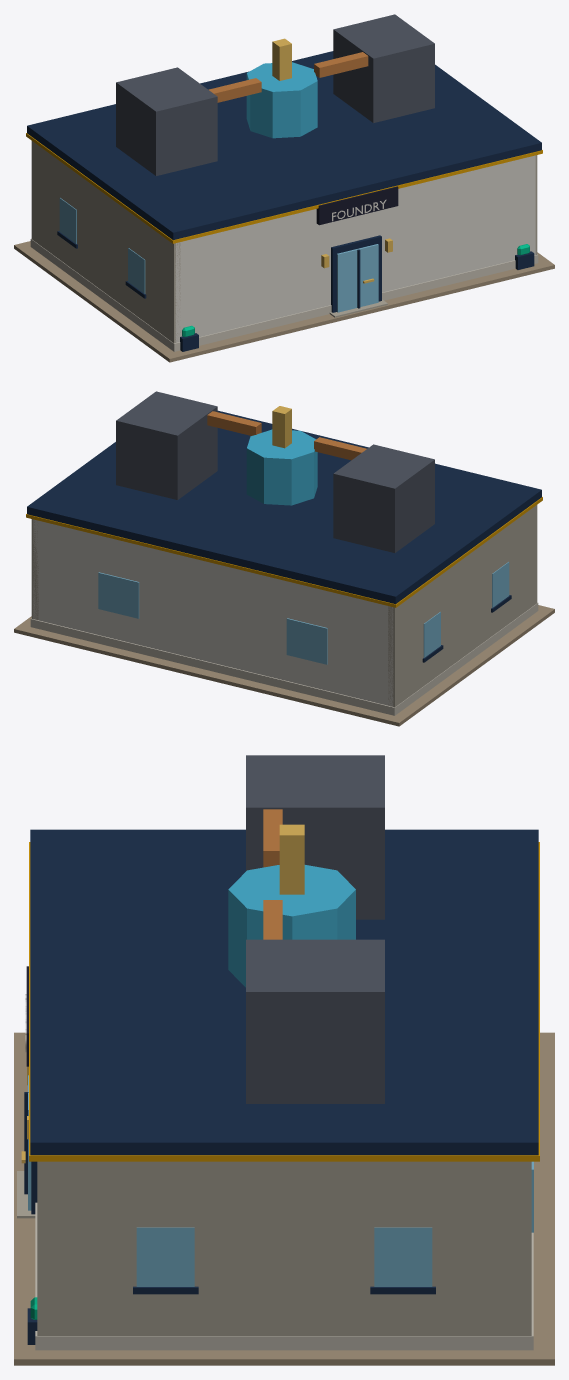
Rendered from agent-foundry-Px7C4eWr.glb.
3 renders of one model, top to bottom at view 1: azimuth 30°, elevation 25°; view 2: azimuth 150°, elevation 25°; view 3: azimuth 270°, elevation 25°, orthographic. The views are drawn at different scales.
Visible parts, largest first — view 1: Architecture, core_orb, core_beacon; view 2: Architecture, core_orb, core_beacon; view 3: Architecture, core_orb, core_beacon.
Boxes of the visible parts, x1,y1,x2,y2 form: Architecture: (14,14,554,362); core_orb: (246,62,317,138); core_beacon: (272,38,291,80); Architecture: (14,391,554,726); core_orb: (246,429,317,505); core_beacon: (272,406,291,448); Architecture: (14,755,554,1365); core_orb: (228,865,355,987); core_beacon: (279,824,304,894).
Bounding box in the file's own units: 20 × 10.63 × 14.
